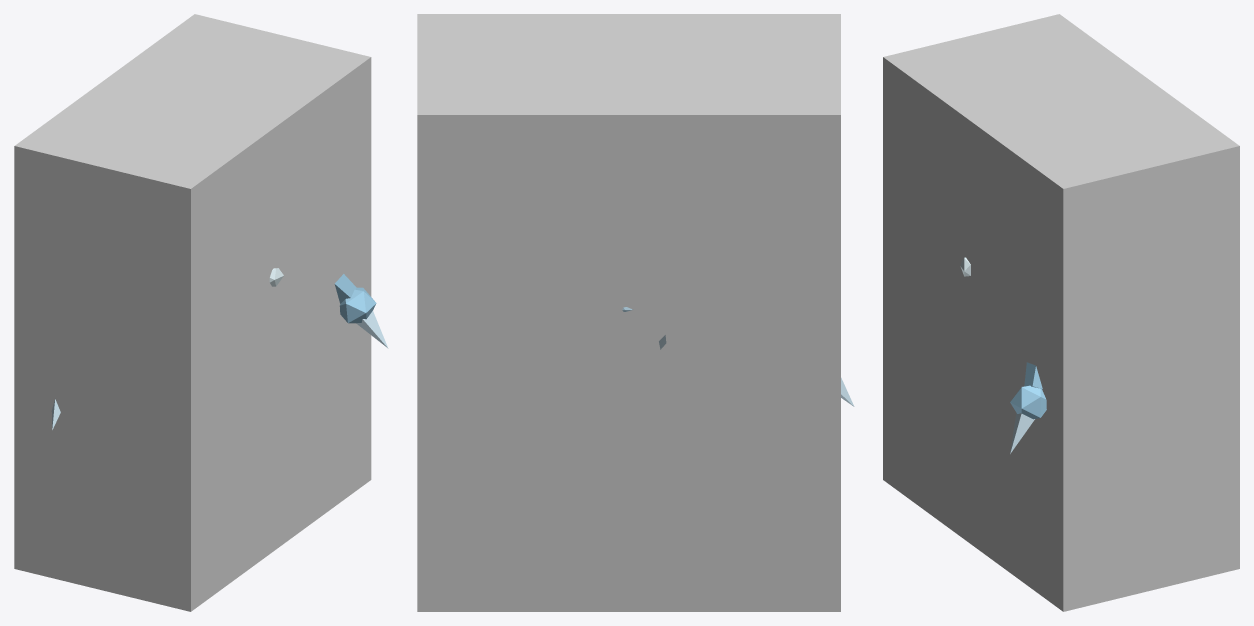
File: tundra_ice_spirit.fbx
3 views of the same model, side by side, from view 1: azimuth 30°, elevation 25°; view 2: azimuth 150°, elevation 25°; view 3: azimuth 270°, elevation 25° (orthographic). The views are drawn at different scales.
Visible parts, largest first — view 1: Root__0.00_2.00_0.04__3.09_4.00_1.75, ArmL__Body__-0.77_2.59_0.00; view 2: Root__0.00_2.00_0.04__3.09_4.00_1.75; view 3: Root__0.00_2.00_0.04__3.09_4.00_1.75, ArmL__Body__-0.77_2.59_0.00.
Boxes of the visible parts, x1,y1,x2,y2 form: Root__0.00_2.00_0.04__3.09_4.00_1.75: (14, 14, 371, 611); ArmL__Body__-0.77_2.59_0.00: (334, 274, 388, 348); Root__0.00_2.00_0.04__3.09_4.00_1.75: (417, 14, 840, 611); Root__0.00_2.00_0.04__3.09_4.00_1.75: (883, 14, 1239, 611); ArmL__Body__-0.77_2.59_0.00: (1010, 362, 1046, 453).
Bounding box in the file's own units: 99.39 × 112 × 85.61.
2 materials, 1 textured.
